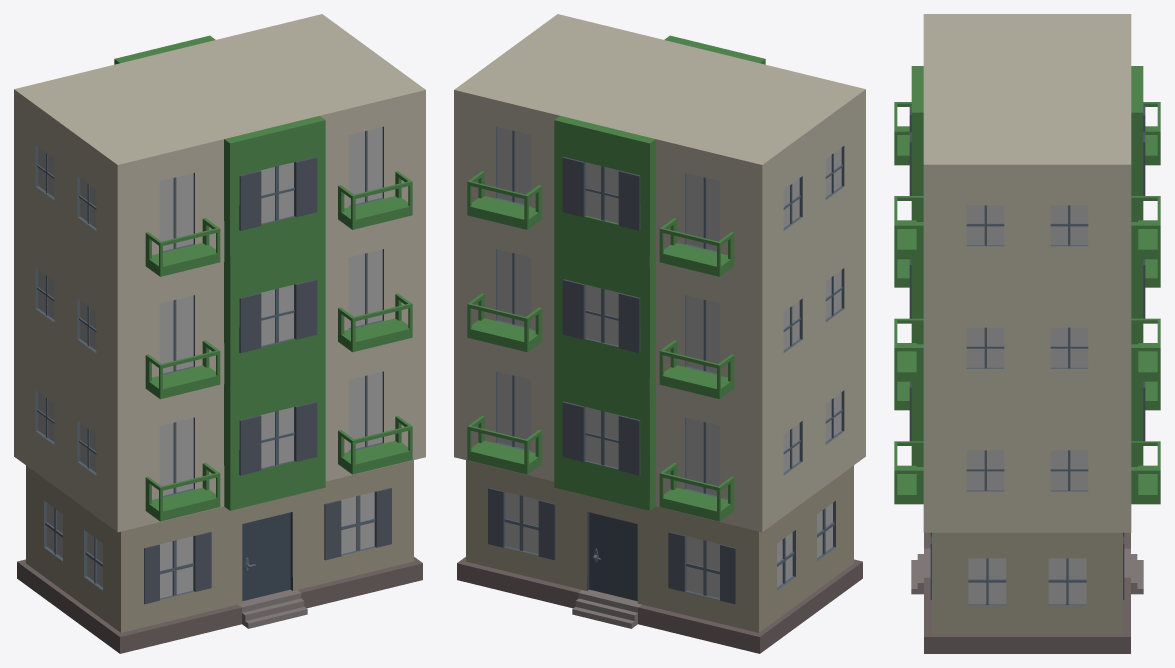
Rendered from FL-House Green.fbx.
The picture shows the model from 3 angles, left to right: view 1: azimuth 30°, elevation 25°; view 2: azimuth 150°, elevation 25°; view 3: azimuth 270°, elevation 25°; orthographic projection.
Parts seen in each view (by area): view 1: immeuble; view 2: immeuble; view 3: immeuble.
Boxes of the visible parts, x1,y1,x2,y2 form: immeuble: [14, 14, 425, 653]; immeuble: [454, 14, 865, 653]; immeuble: [894, 14, 1160, 653].
Bounding box in the file's own units: 4482 × 6804 × 3346.
